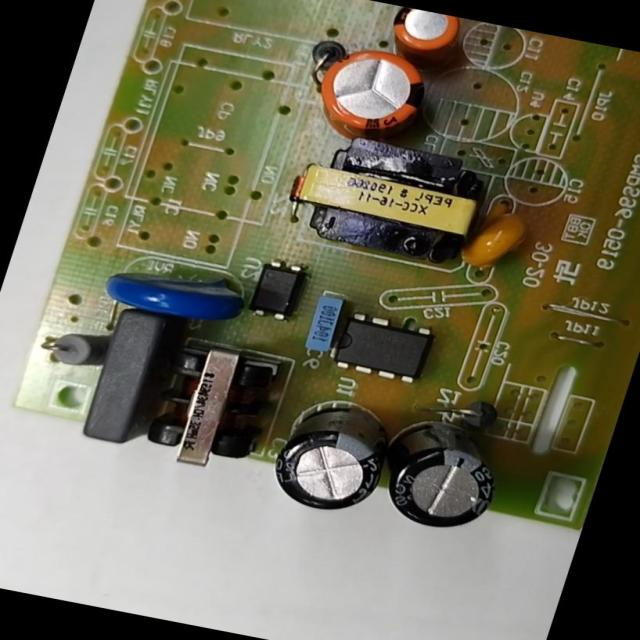Cap1: (298, 33, 452, 156)
Cap2: (364, 3, 478, 80)
Cap3: (253, 382, 409, 522)
Cap4: (352, 403, 520, 540)
MOSFET: (321, 299, 449, 393)
Mov: (94, 243, 260, 334)
Resistor: (31, 313, 112, 379)
Transformer: (272, 119, 511, 273), (124, 326, 295, 482)
